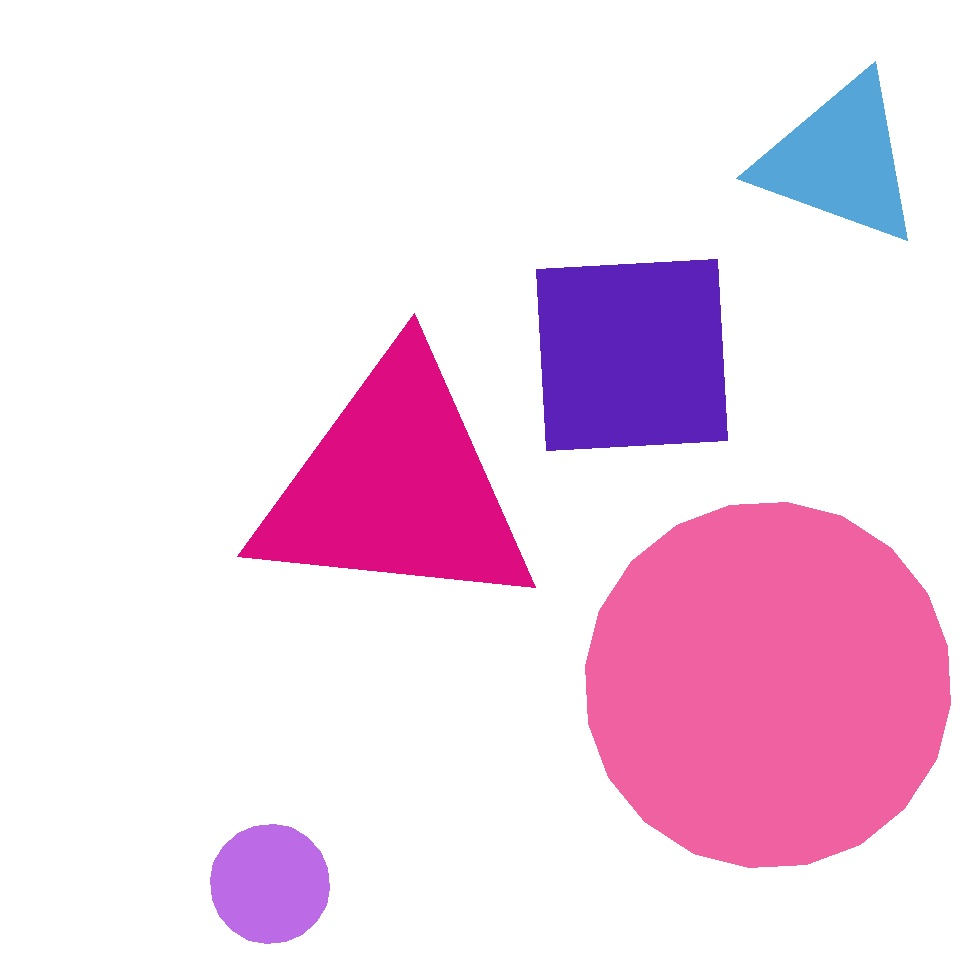circle: (247, 349, 545, 623), (754, 70, 926, 250)
square: (414, 60, 688, 334), (216, 334, 444, 564), (608, 316, 824, 530), (536, 260, 728, 450)
triangle: (586, 502, 950, 867), (689, 497, 931, 739), (210, 824, 330, 944)
